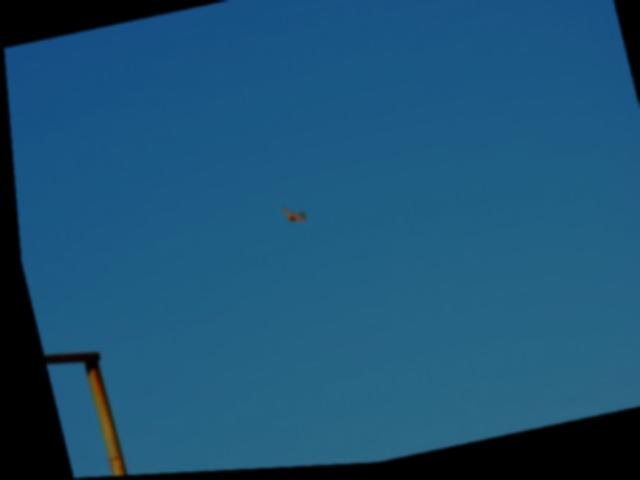iha: (276, 204, 311, 231)
